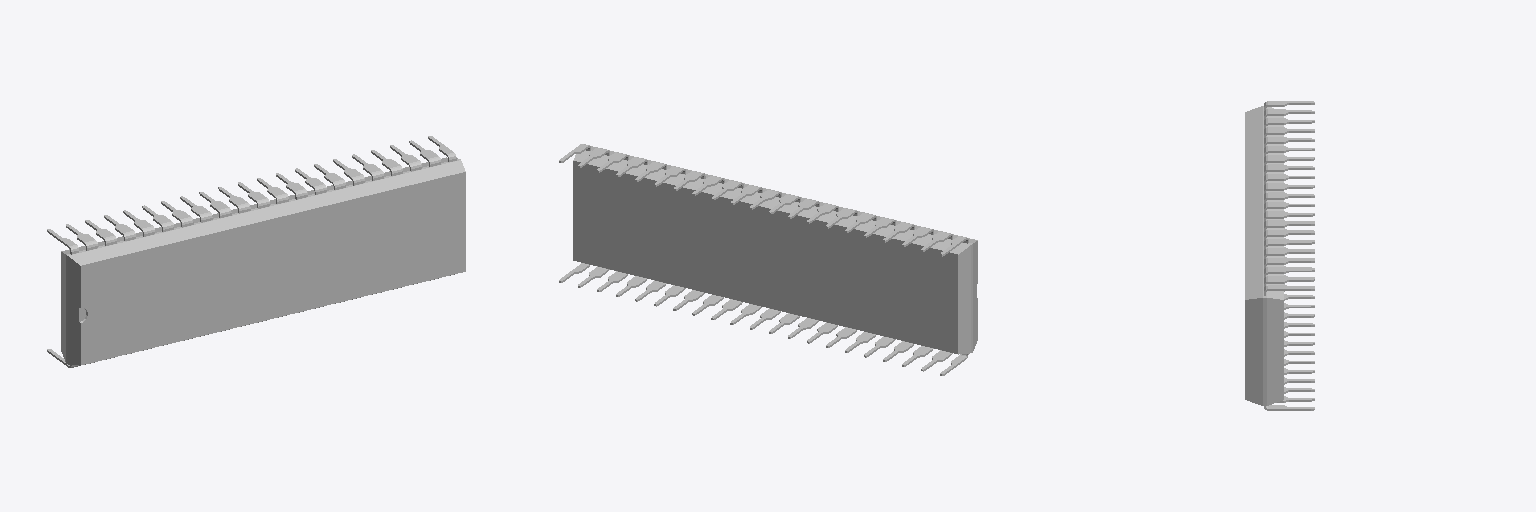
The model's file is DIP-42P-M03.obj.
3 views of the same model, side by side, from view 1: azimuth 30°, elevation 25°; view 2: azimuth 150°, elevation 25°; view 3: azimuth 270°, elevation 25° (orthographic).
Parts seen in each view (by area): view 1: Solid1; view 2: Solid1; view 3: Solid1.
Part boxes in pixels (left/top/right/bottom): Solid1: left=47, top=136, right=465, bottom=367; Solid1: left=559, top=144, right=977, bottom=375; Solid1: left=1245, top=101, right=1314, bottom=410.
Bounding box in the file's own units: 52.4 × 15.49 × 8.